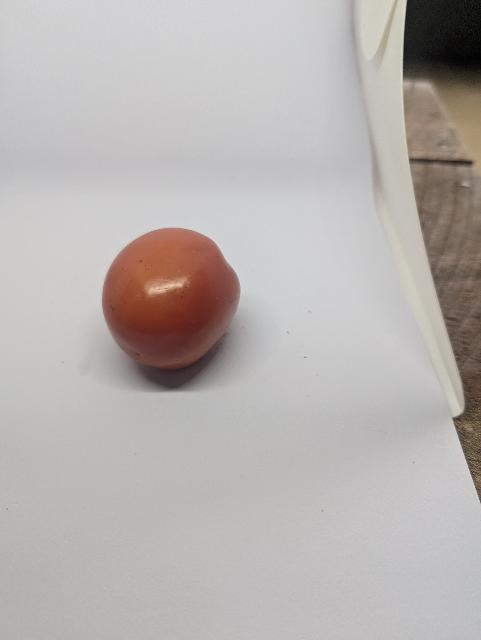red: (95, 218, 250, 382)
